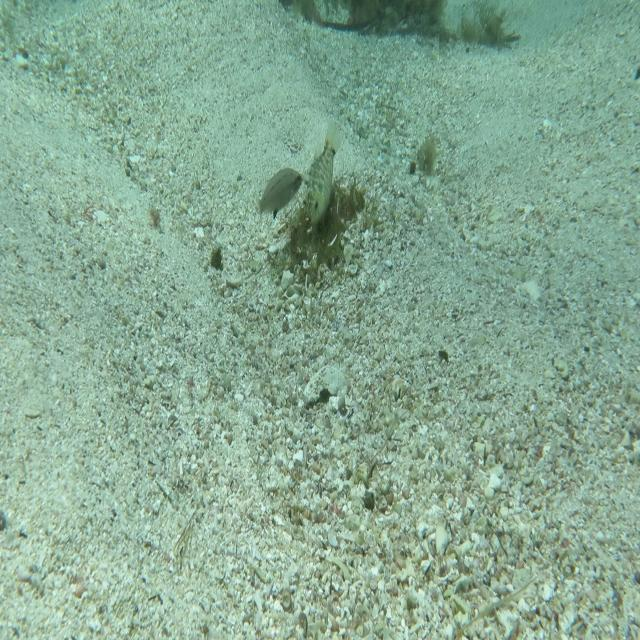ROLL: (300, 120, 346, 231)
female: (254, 165, 304, 229)
nest: (266, 168, 370, 304)
